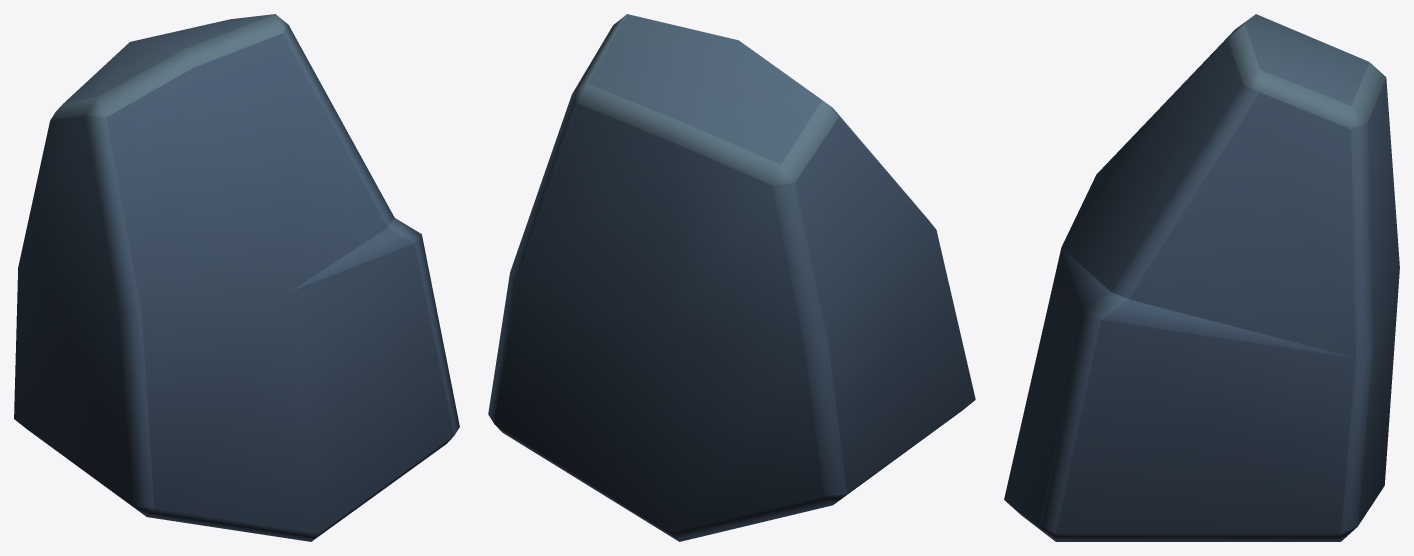
The model's file is rock_017.fbx.
3 renders of one model, left to right at view 1: azimuth 30°, elevation 25°; view 2: azimuth 150°, elevation 25°; view 3: azimuth 270°, elevation 25°, orthographic. The views are drawn at different scales.
Parts seen in each view (by area): view 1: rock_017; view 2: rock_017; view 3: rock_017.
Boxes of the visible parts, box(x1,y1,x2,y2) form: rock_017: box(14, 14, 459, 541); rock_017: box(488, 14, 975, 541); rock_017: box(1004, 14, 1399, 541).
Size of the model in its own units: 180 by 228 by 169.
1 material, 1 textured.
